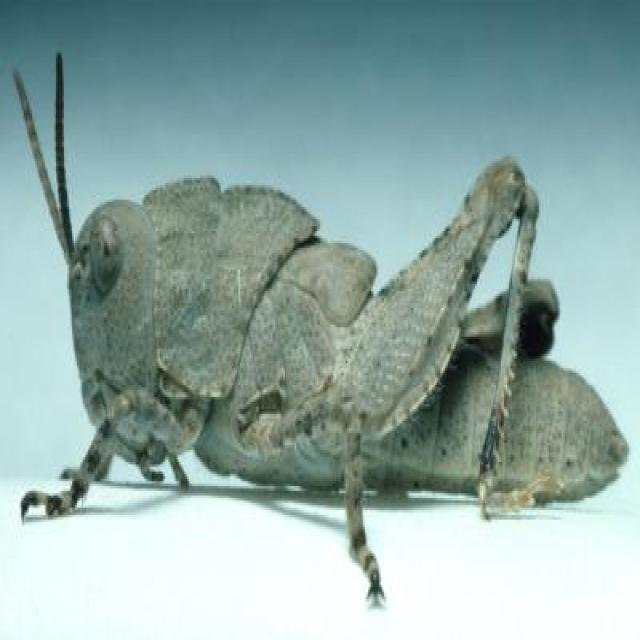antennae: (13, 71, 79, 271), (54, 54, 75, 260)
body: (73, 178, 621, 505)
insect: (9, 52, 631, 596)
legs: (343, 168, 542, 513), (235, 390, 392, 594), (18, 396, 211, 522)
mouthpart: (80, 380, 164, 465)
